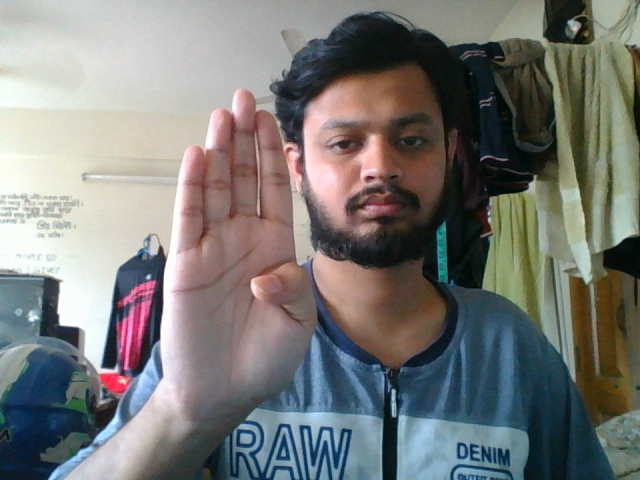ba: (153, 82, 320, 445)
